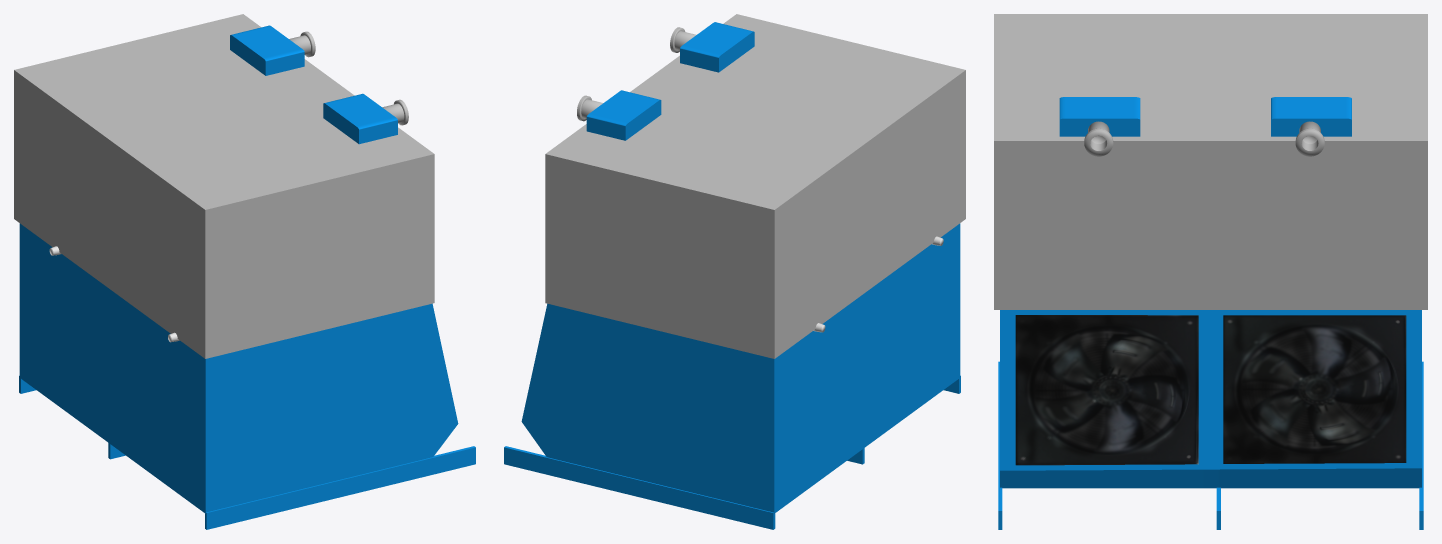
File: амм.испар.конденс.fbx
3 views of the same model, side by side, from view 1: azimuth 30°, elevation 25°; view 2: azimuth 150°, elevation 25°; view 3: azimuth 270°, elevation 25° (orthographic). The views are drawn at different scales.
Visible parts, largest first — view 1: Cube, Cube.001, Cube.005, Cube.004; view 2: Cube, Cube.003, Cube.005, Cube.004; view 3: Cube, Cube.004, Cube.005, Cylinder.001, Cylinder.002.
Part boxes in pixels (bbox=[...]): Cube: bbox=[14, 14, 458, 513]; Cube.001: bbox=[205, 446, 475, 529]; Cube.005: bbox=[230, 25, 304, 75]; Cube.004: bbox=[323, 93, 397, 144]; Cube: bbox=[521, 14, 965, 513]; Cube.003: bbox=[504, 446, 775, 529]; Cube.005: bbox=[586, 90, 661, 140]; Cube.004: bbox=[680, 22, 754, 72]; Cube: bbox=[994, 14, 1427, 488]; Cube.004: bbox=[1059, 97, 1140, 136]; Cube.005: bbox=[1271, 97, 1351, 136]; Cylinder.001: bbox=[1295, 121, 1324, 156]; Cylinder.002: bbox=[1084, 121, 1113, 156].
Size of the model in its own units: 311 by 361 by 371.
3 materials, 1 textured.
